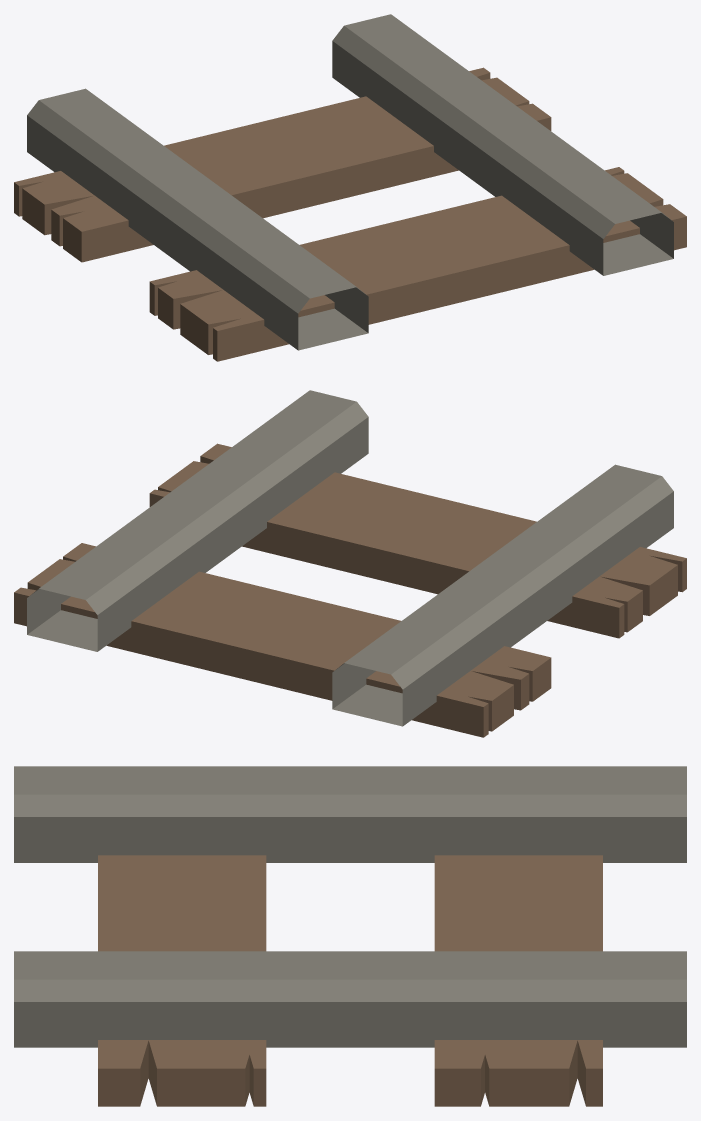
Rendered from Cave_Prop_Railway_Straight_3.obj.
The picture shows the model from 3 angles, top to bottom: view 1: azimuth 30°, elevation 25°; view 2: azimuth 150°, elevation 25°; view 3: azimuth 270°, elevation 25°; orthographic projection. The views are drawn at different scales.
Visible parts, largest first — view 1: object3, object4, object1, object2; view 2: object3, object4, object2, object1; view 3: object3, object4, object1, object2.
Boxes of the visible parts, box(x1,y1,x2,y2) form: object3: box(27, 88, 368, 350); object4: box(332, 14, 673, 275); object1: box(149, 167, 686, 361); object2: box(14, 67, 551, 262); object3: box(332, 464, 673, 726); object4: box(27, 390, 368, 651); object2: box(14, 543, 551, 737); object1: box(149, 443, 686, 638); object3: box(14, 766, 686, 862); object4: box(14, 951, 686, 1047); object1: box(98, 855, 266, 1106); object2: box(434, 855, 602, 1106).
Bounding box in the file's own units: 1 × 0.15 × 1.
